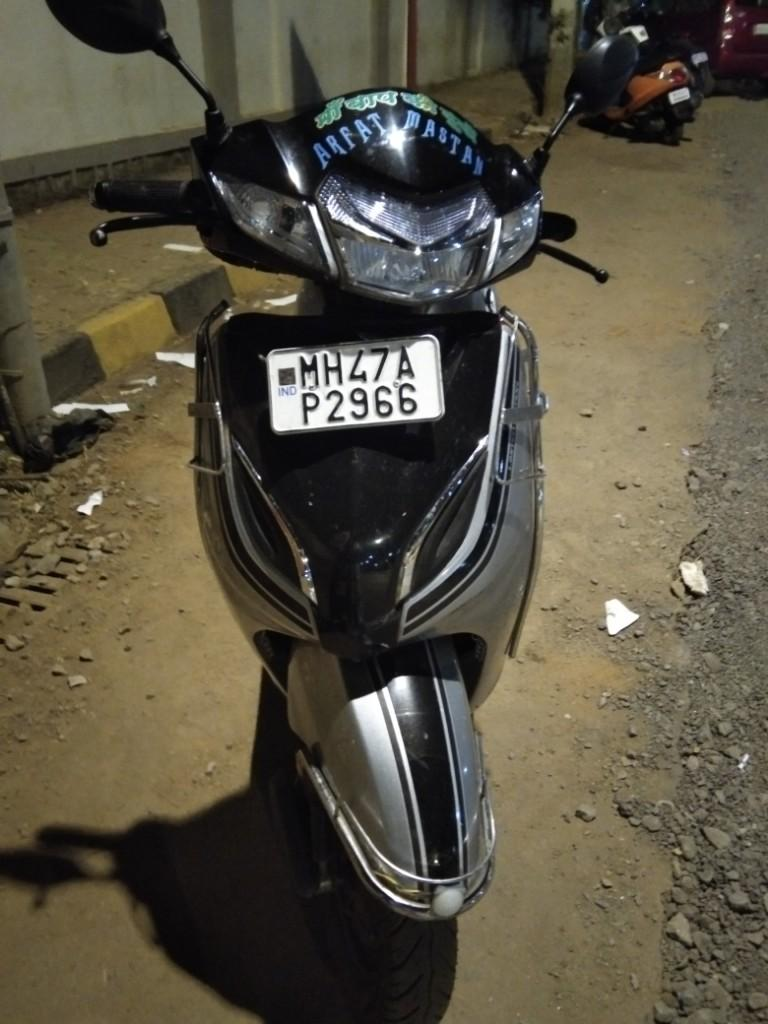doublelinenumberplate: (263, 336, 443, 433)
